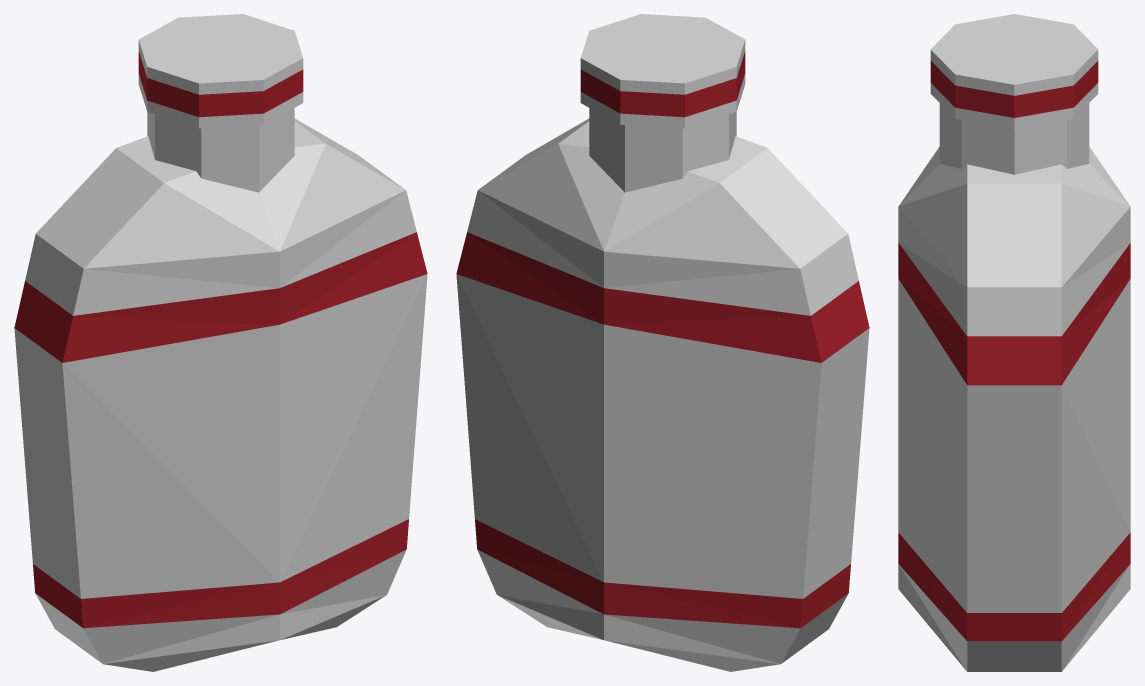
Rendered from Health Canteen.dae.
The picture shows the model from 3 angles, left to right: view 1: azimuth 30°, elevation 25°; view 2: azimuth 150°, elevation 25°; view 3: azimuth 270°, elevation 25°; orthographic projection.
Parts seen in each view (by area): view 1: Cube, Circle_001, Circle; view 2: Cube, Circle_001, Circle; view 3: Cube, Circle_001, Circle.
Part boxes in pixels (bbox=[...]): Cube: bbox=[14, 118, 427, 671]; Circle_001: bbox=[138, 14, 303, 128]; Circle: bbox=[147, 108, 294, 192]; Cube: bbox=[456, 118, 869, 671]; Circle_001: bbox=[580, 14, 745, 128]; Circle: bbox=[589, 108, 736, 192]; Cube: bbox=[898, 147, 1130, 671]; Circle_001: bbox=[930, 14, 1098, 128]; Circle: bbox=[939, 103, 1089, 174].
Size of the model in its own units: 5.54 by 3.1 by 8.46.
